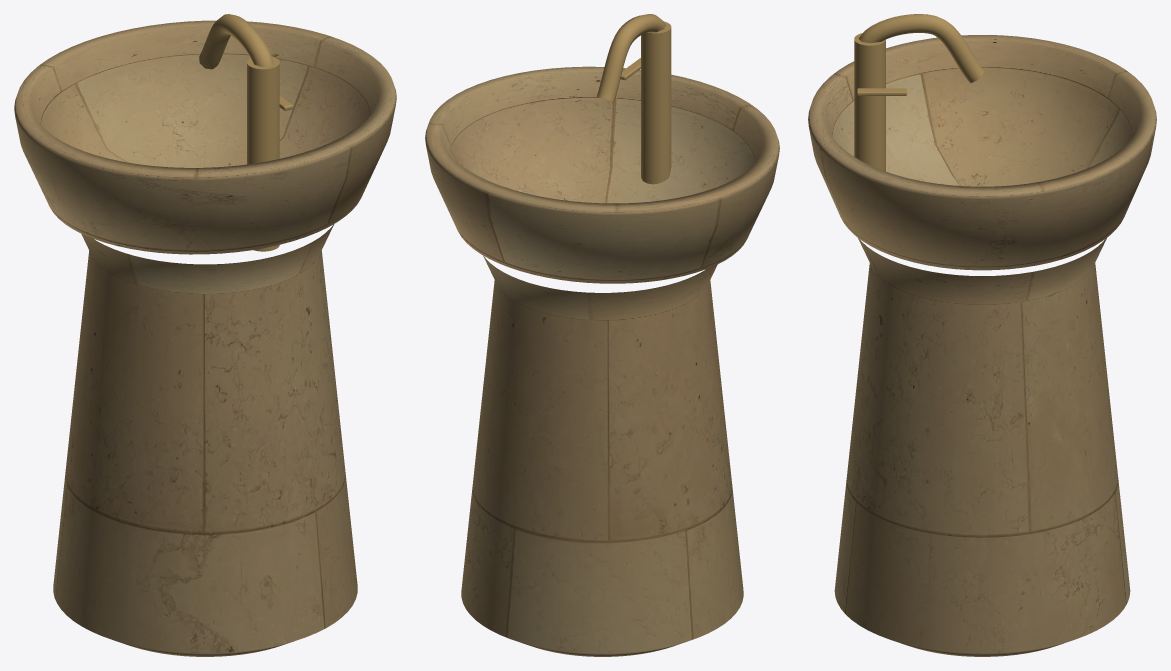
The model's file is luxury-pedestal-bowl.glb.
The picture shows the model from 3 angles, left to right: view 1: azimuth 30°, elevation 25°; view 2: azimuth 150°, elevation 25°; view 3: azimuth 270°, elevation 25°; orthographic projection. The views are drawn at different scales.
Parts seen in each view (by area): view 1: stone_0, bronze_2; view 2: stone_0, bronze_2; view 3: stone_0, bronze_2.
Boxes of the visible parts, <box> form: stone_0: <box>14,20,396,656</box>; bronze_2: <box>199,14,293,251</box>; stone_0: <box>425,66,779,656</box>; bronze_2: <box>597,14,671,184</box>; stone_0: <box>808,35,1156,656</box>; bronze_2: <box>854,14,984,171</box>.
Bounding box in the file's own units: 0.64 × 1.11 × 0.59.
Materials: 2 (1 with a texture image).
